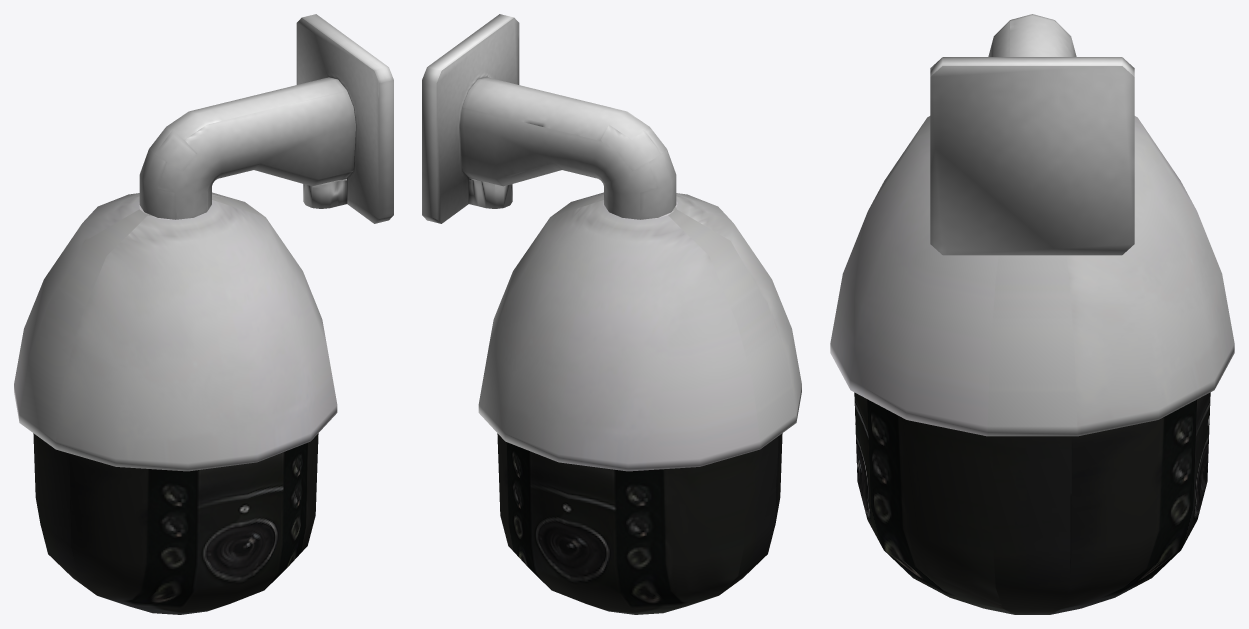
Rendered from cctvDome02.gltf.
The picture shows the model from 3 angles, left to right: view 1: azimuth 30°, elevation 25°; view 2: azimuth 150°, elevation 25°; view 3: azimuth 270°, elevation 25°; orthographic projection. The views are drawn at different scales.
Visible parts, largest first — view 1: cctvDome; view 2: cctvDome; view 3: cctvDome.
Boxes of the visible parts, <box> form: cctvDome: <box>14,14,393,614</box>; cctvDome: <box>422,14,801,614</box>; cctvDome: <box>830,14,1234,614</box>.
Size of the model in its own units: 1.46 by 2.25 by 1.31.
Materials: 1 (1 with a texture image).
